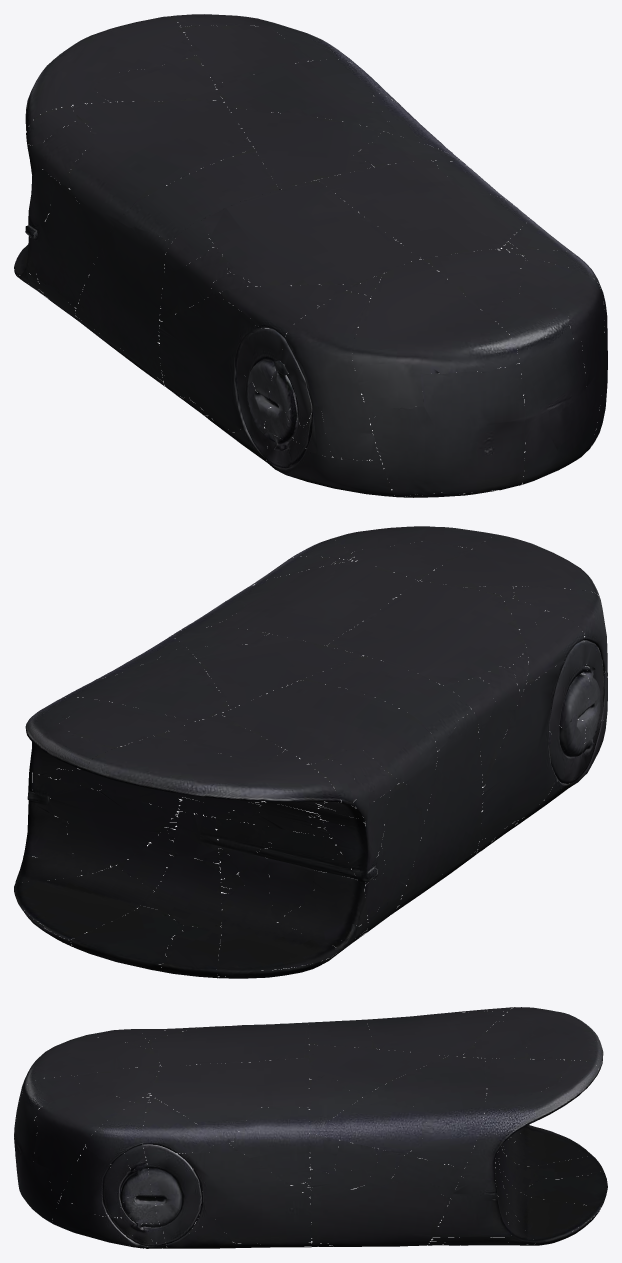
The model's file is couvercle-micro.glb.
The picture shows the model from 3 angles, top to bottom: view 1: azimuth 30°, elevation 25°; view 2: azimuth 150°, elevation 25°; view 3: azimuth 270°, elevation 25°; orthographic projection. The views are drawn at different scales.
Visible parts, largest first — view 1: tripo_node_d2980fb4-32c3-48b2-a237-4b5620bfba82; view 2: tripo_node_d2980fb4-32c3-48b2-a237-4b5620bfba82; view 3: tripo_node_d2980fb4-32c3-48b2-a237-4b5620bfba82.
Boxes of the visible parts, left/top/right/bottom form: tripo_node_d2980fb4-32c3-48b2-a237-4b5620bfba82: left=14, top=14, right=607, bottom=497; tripo_node_d2980fb4-32c3-48b2-a237-4b5620bfba82: left=14, top=526, right=607, bottom=978; tripo_node_d2980fb4-32c3-48b2-a237-4b5620bfba82: left=14, top=1007, right=607, bottom=1248.
Bounding box in the file's own units: 0.4918 × 0.2789 × 0.9811.
1 material, 1 textured.
